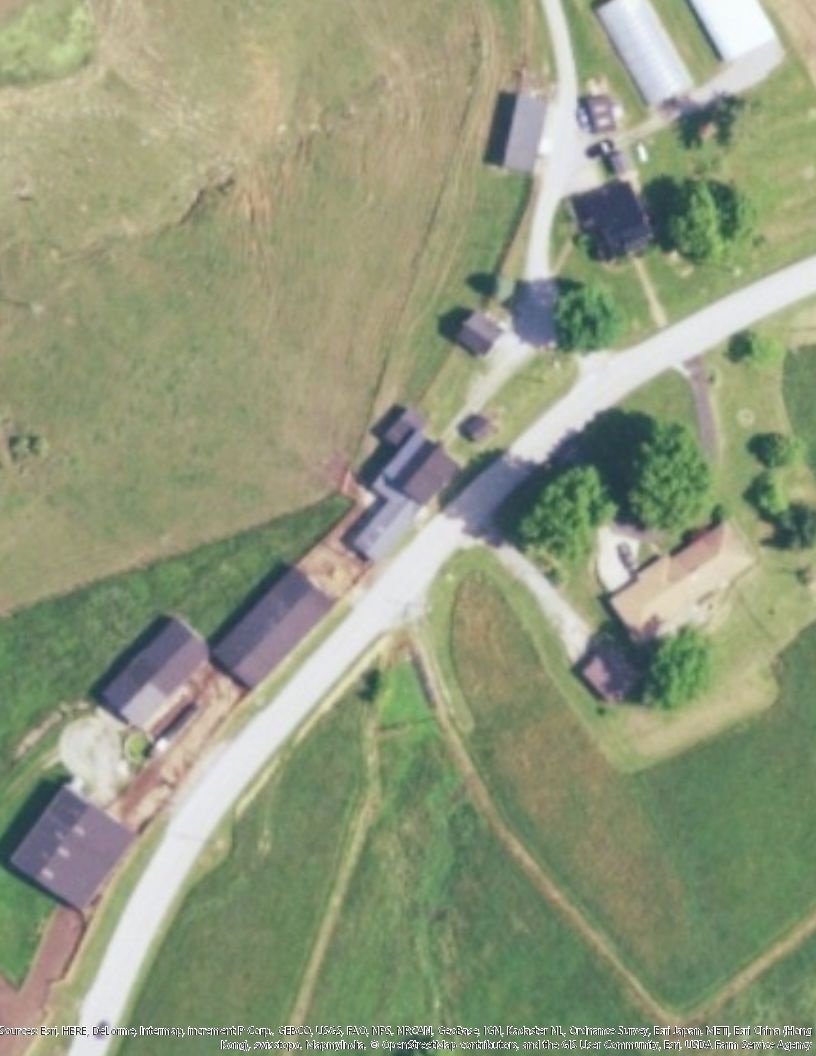cafo: (345, 403, 481, 564), (204, 561, 341, 698), (4, 785, 141, 921), (96, 607, 207, 736), (687, 1, 786, 62)
